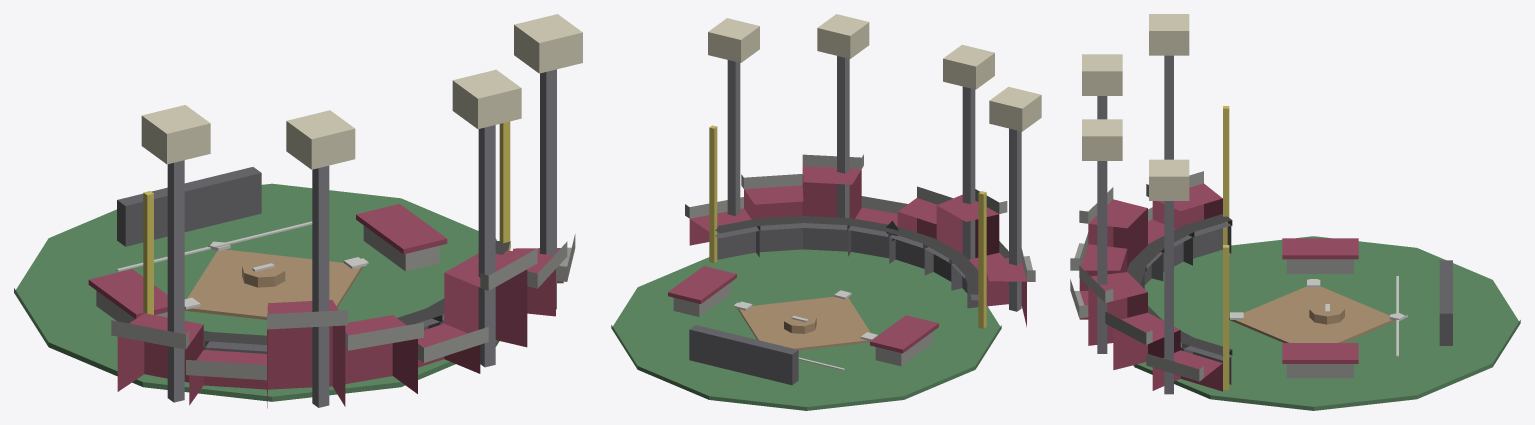
Rendered from estadio.glb.
The picture shows the model from 3 angles, left to right: view 1: azimuth 30°, elevation 25°; view 2: azimuth 150°, elevation 25°; view 3: azimuth 270°, elevation 25°; orthographic projection. The views are drawn at different scales.
Parts seen in each view (by area): view 1: estadio; view 2: estadio; view 3: estadio.
Boxes of the visible parts, bbox=[...] form: estadio: bbox=[14, 14, 582, 408]; estadio: bbox=[611, 14, 1041, 410]; estadio: bbox=[1070, 14, 1520, 410].
Bounding box in the file's own units: 0.191 × 0.112 × 0.2002.
